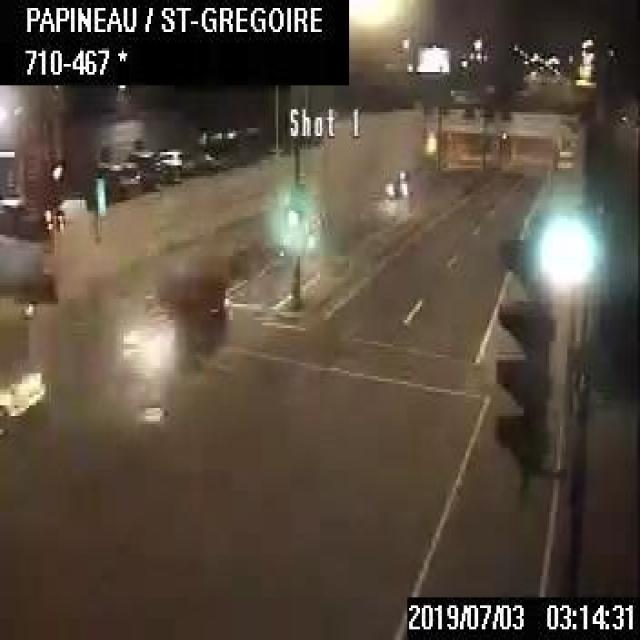vehicle: (126, 267, 226, 360), (92, 159, 135, 196), (382, 165, 413, 195)
